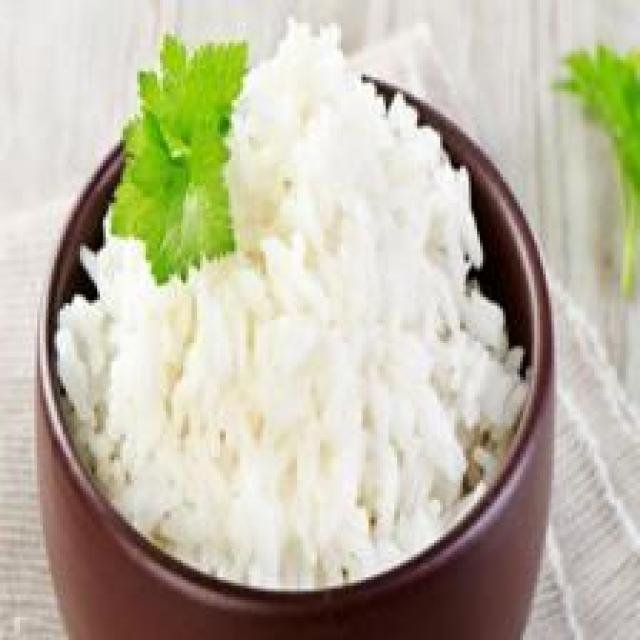Wet Waste: (60, 27, 546, 615)
